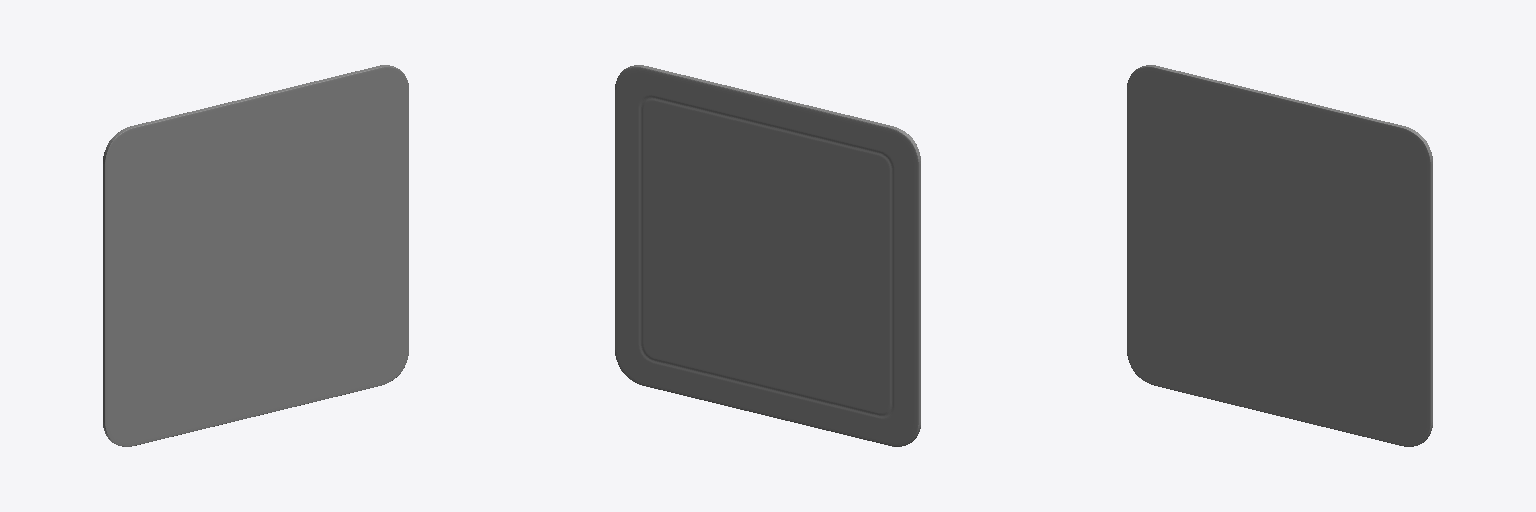
Rendered from woodRoof.obj.
3 renders of one model, left to right at view 1: azimuth 30°, elevation 25°; view 2: azimuth 150°, elevation 25°; view 3: azimuth 330°, elevation 25°, orthographic.
Visible parts, largest first — view 1: 10330_Wooden_Cutting_Board_v2_max2010_it2; view 2: 10330_Wooden_Cutting_Board_v2_max2010_it2; view 3: 10330_Wooden_Cutting_Board_v2_max2010_it2.
Part boxes in pixels (x1,y1,x2,y2): 10330_Wooden_Cutting_Board_v2_max2010_it2: (103,65,408,446); 10330_Wooden_Cutting_Board_v2_max2010_it2: (615,65,920,446); 10330_Wooden_Cutting_Board_v2_max2010_it2: (1127,65,1432,446).
Bounding box in the file's own units: 16.66 × 16.66 × 0.2643.